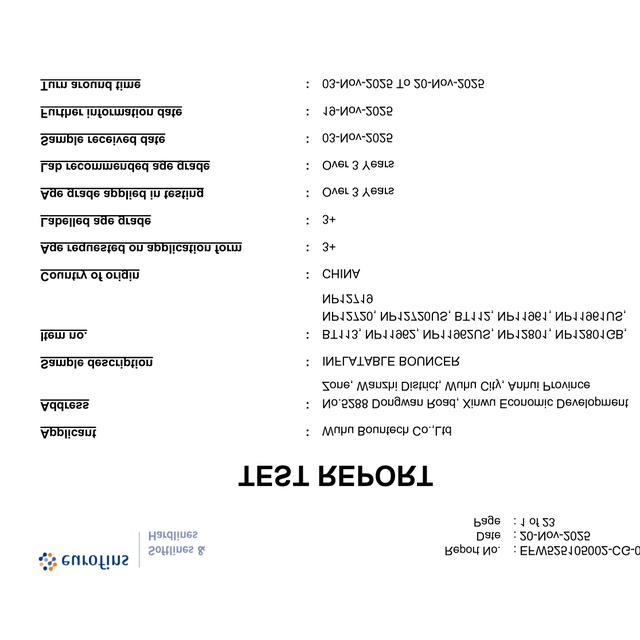eurofins: (32, 550, 132, 575)
